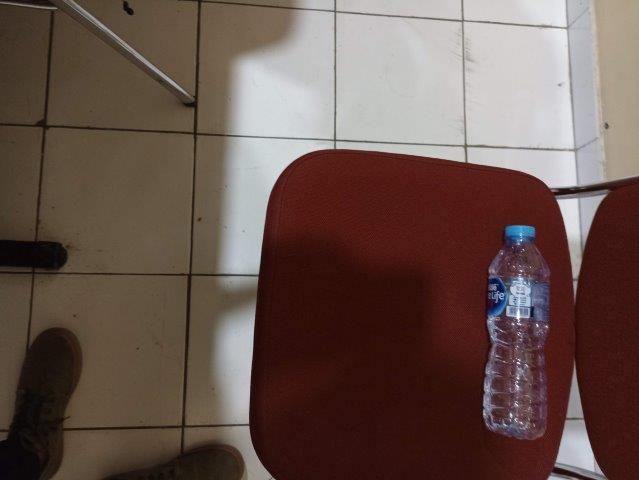botolplastik: (481, 224, 549, 443)
